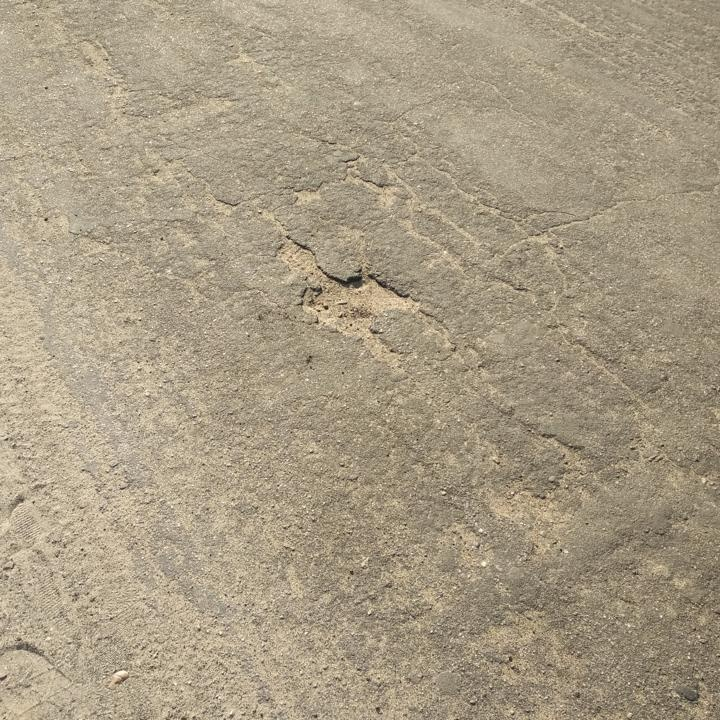pothole: (294, 268, 426, 339), (270, 233, 319, 270)
